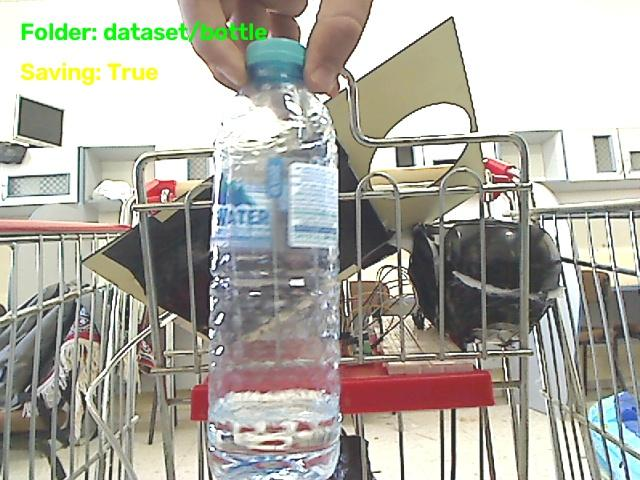Bottle: (210, 39, 338, 479)
